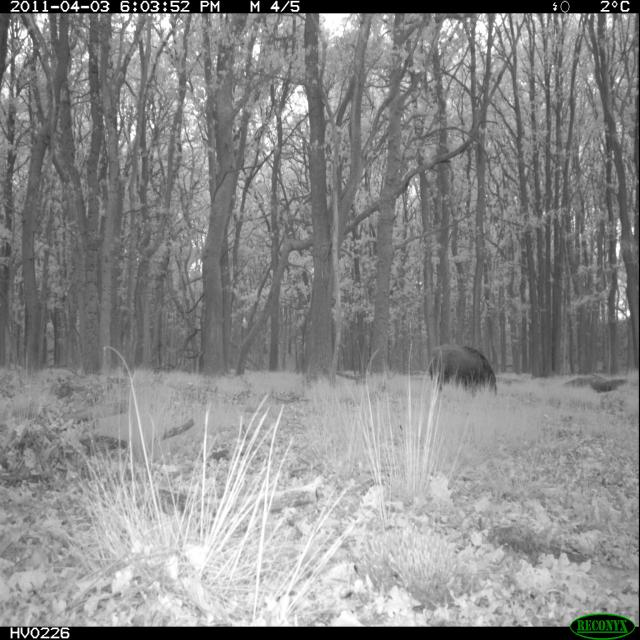boar: (417, 326, 515, 416)
